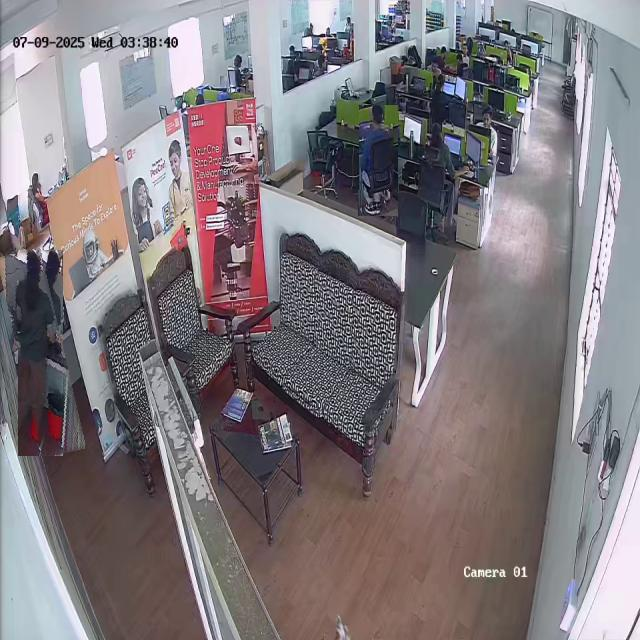person: (7, 249, 74, 457), (418, 121, 466, 230), (359, 105, 398, 218), (26, 172, 51, 222)
